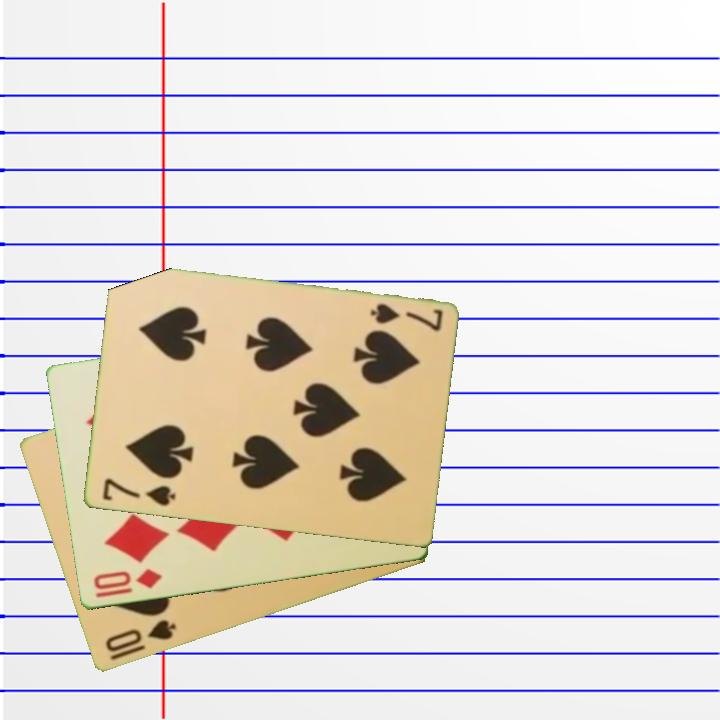10d: (89, 565, 165, 601)
10s: (102, 616, 179, 656)
7s: (98, 475, 178, 510), (366, 300, 445, 335)
